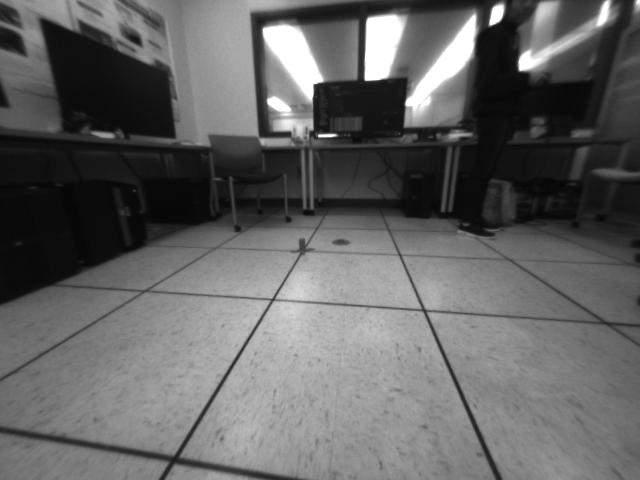X: (289, 237, 316, 256)
